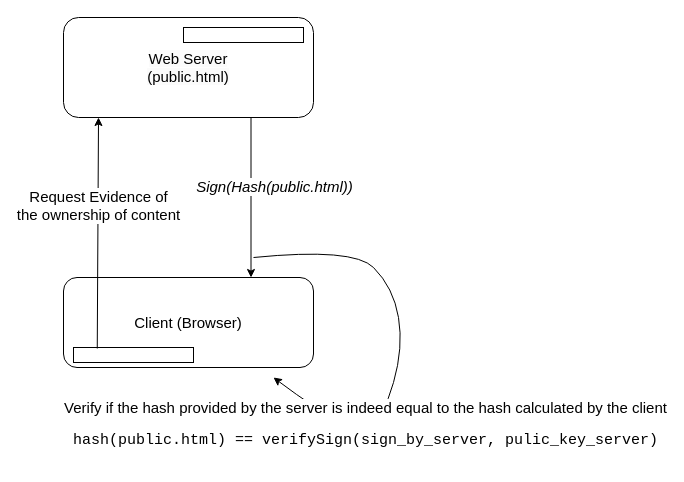
The diagram is 684 pixels wide and 482 high, and some of its shapes have lost their labels. The shapes that lost their labels are listed below. From the top down, each one's box as (x1, y1, x2, y2) in pixels, then its label:
(182, 26, 304, 42): Public Key
(72, 346, 194, 362): Evidence Button
